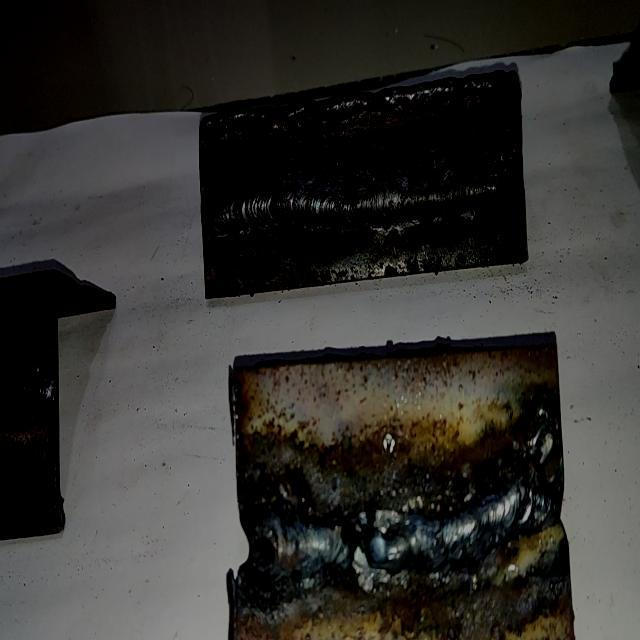Defect: (202, 68, 516, 144), (336, 479, 402, 597), (524, 390, 562, 543)
Welding Line: (241, 463, 551, 577), (204, 158, 519, 236)
Workpiece: (232, 336, 568, 640), (198, 63, 532, 301)
